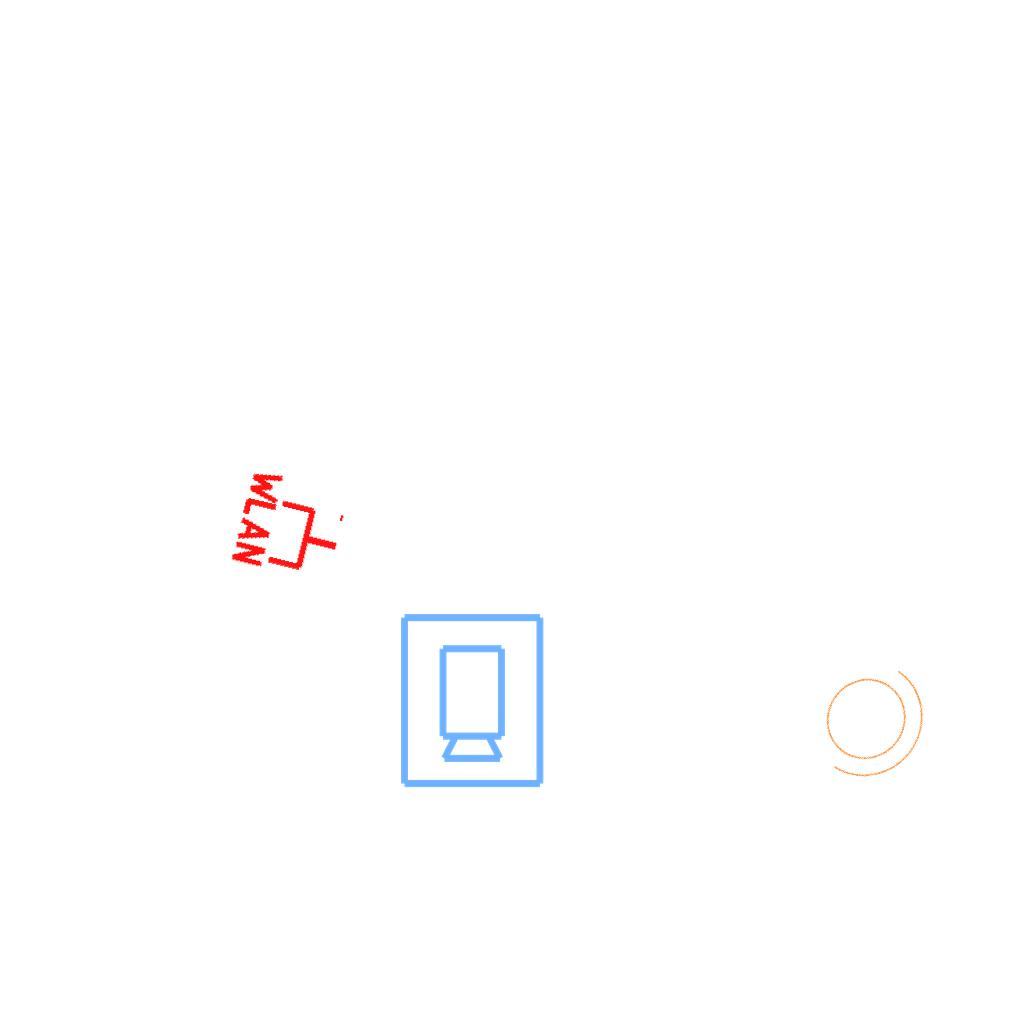KFO_Kamera_mit_Festobjektiv: (394, 609, 548, 791)
Scheinwerfer_fuer_Alarmbeleuchtung: (788, 632, 956, 806)
WLAN: (227, 462, 356, 590)
